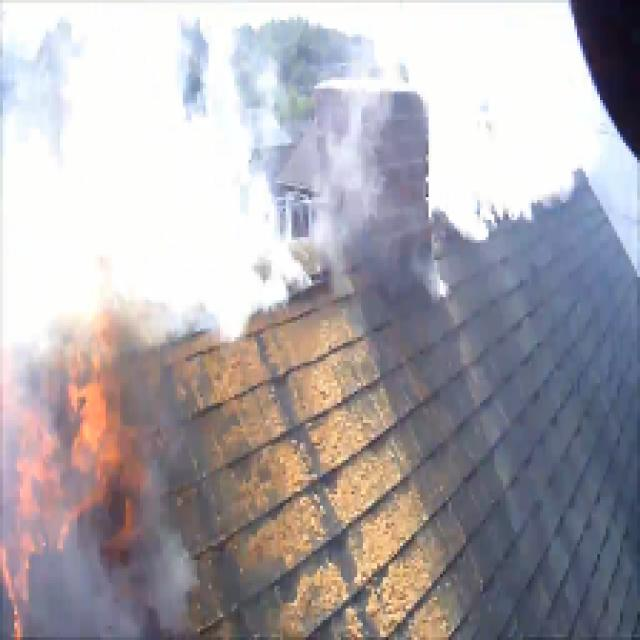smoke: (34, 25, 250, 324), (419, 19, 585, 213)
